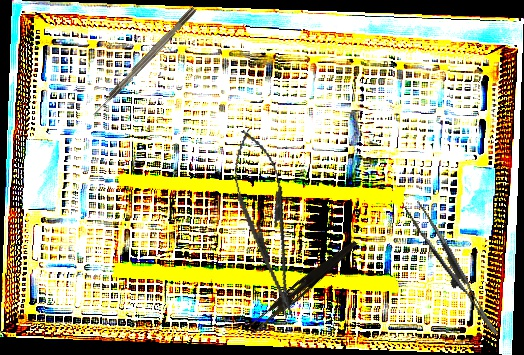Dressing Forceps: (247, 234, 360, 338)
Hook Surgical: (90, 6, 198, 118)
Needle Holder: (222, 124, 311, 324)
Tissue Forceps: (403, 193, 499, 347)
